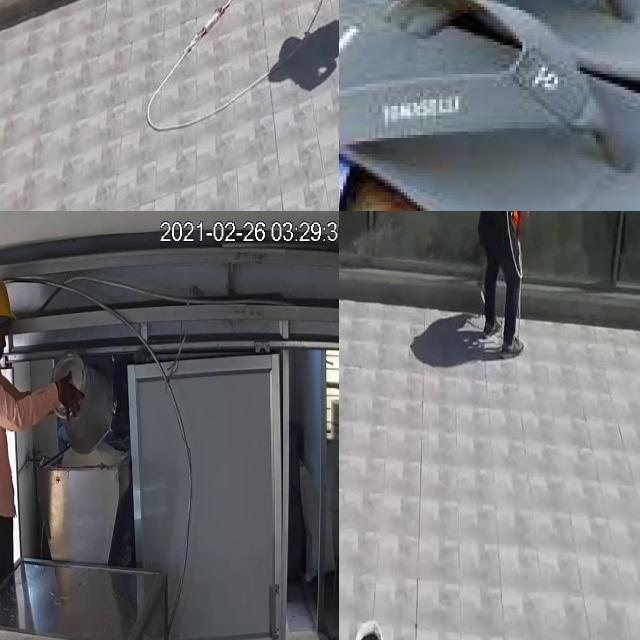Harness: (194, 0, 236, 42)
No_Glasses: (0, 324, 7, 337)
Sandals: (339, 0, 640, 211)
hand_noglove: (56, 371, 84, 419)
head_helmet: (0, 279, 16, 319)
